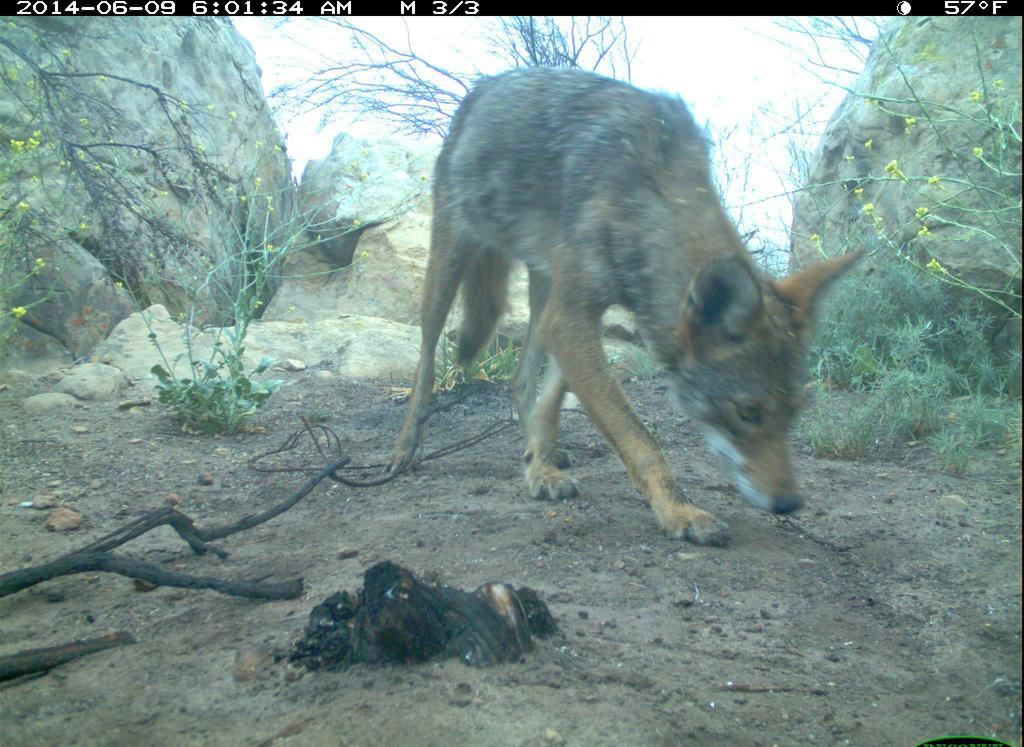coyote: (383, 56, 876, 560)
